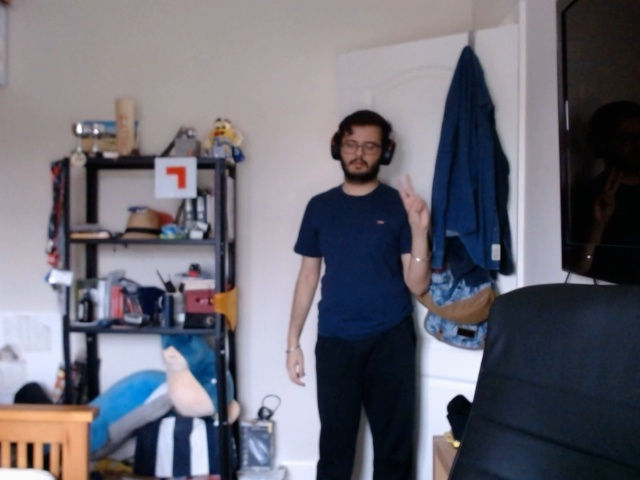Peace: (378, 164, 458, 245)
